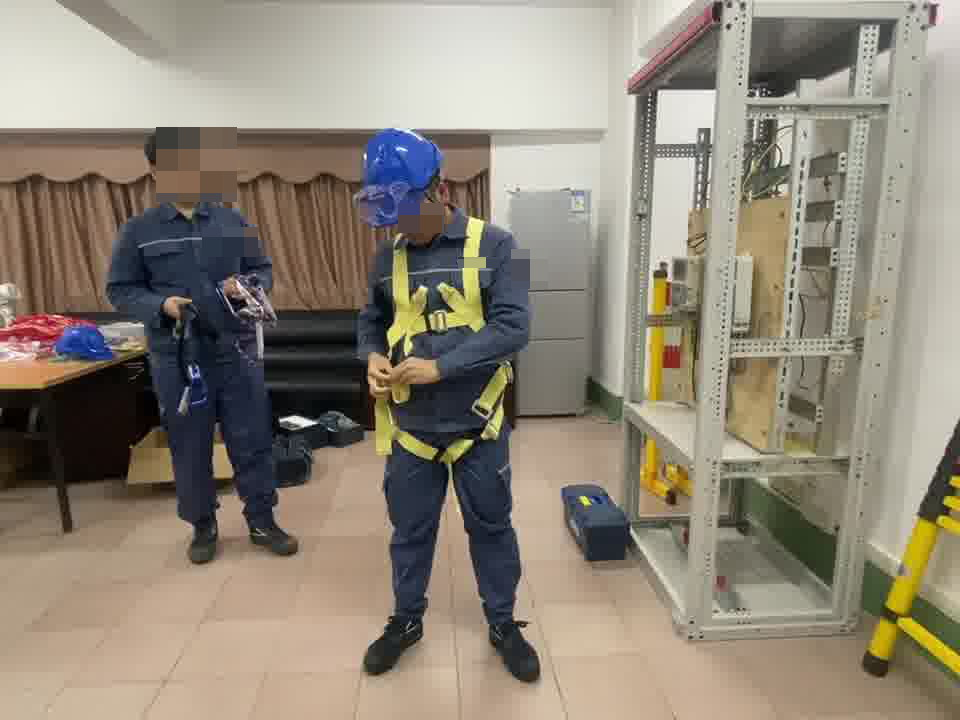downsuit: (382, 401, 527, 624), (158, 335, 269, 525)
halt: (358, 129, 446, 237), (144, 130, 211, 206)
hand: (392, 355, 436, 388), (365, 356, 392, 394), (164, 292, 196, 319)
inear: (419, 174, 451, 218)
person: (353, 130, 542, 676), (108, 130, 296, 558)
safebelt: (367, 212, 515, 468)
sleeve: (514, 254, 533, 284)
unhalt: (144, 130, 211, 206)
upsuit: (363, 208, 532, 446), (113, 203, 267, 339)
